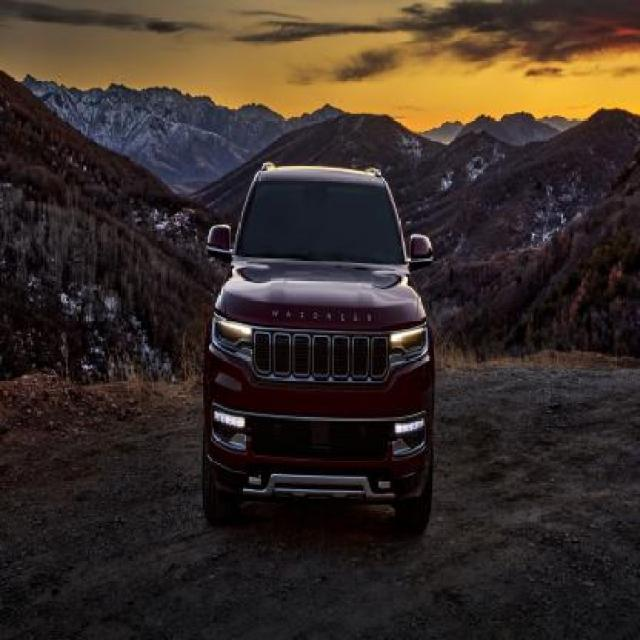Jeep: (204, 162, 438, 548)
